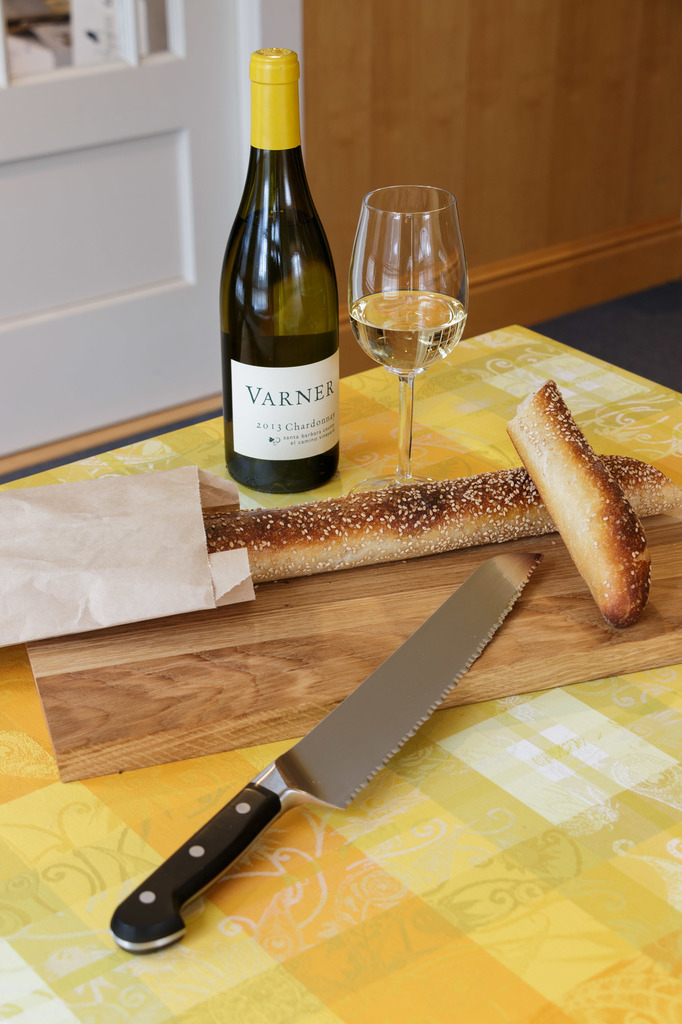kitchen knife: (108, 547, 541, 958)
